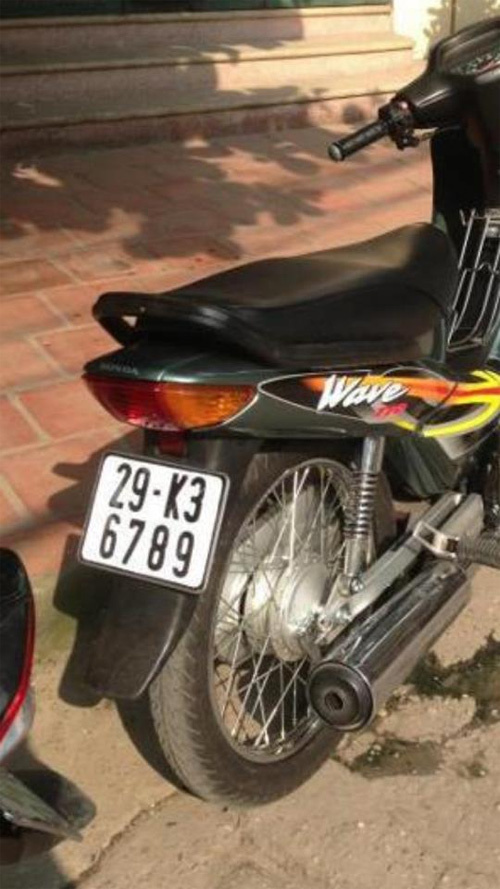number_plate: (87, 447, 215, 589)
